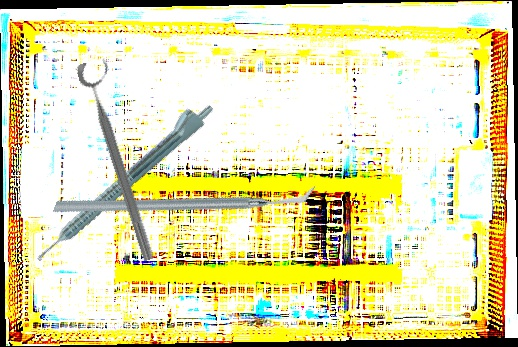Chopper: (52, 97, 316, 301)
Fixation Ring: (74, 55, 171, 264)
Handpiece: (25, 93, 218, 266)
